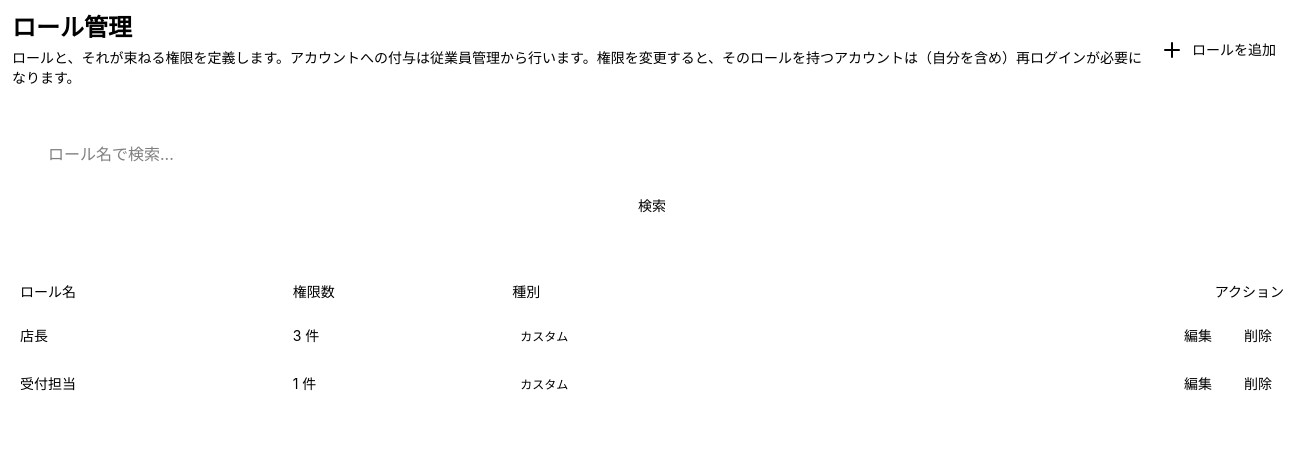
Scenario: ロール一覧ページ › 該当なしのときは検索向けの空文言を出し、クリアで全件へ戻ること
expect the text "店長" is shown: met, box left=12, top=312, right=285, bottom=360
In the field named "ロールを検索": (652, 154) left=36, top=136, right=1268, bottom=172, type "存在しない"
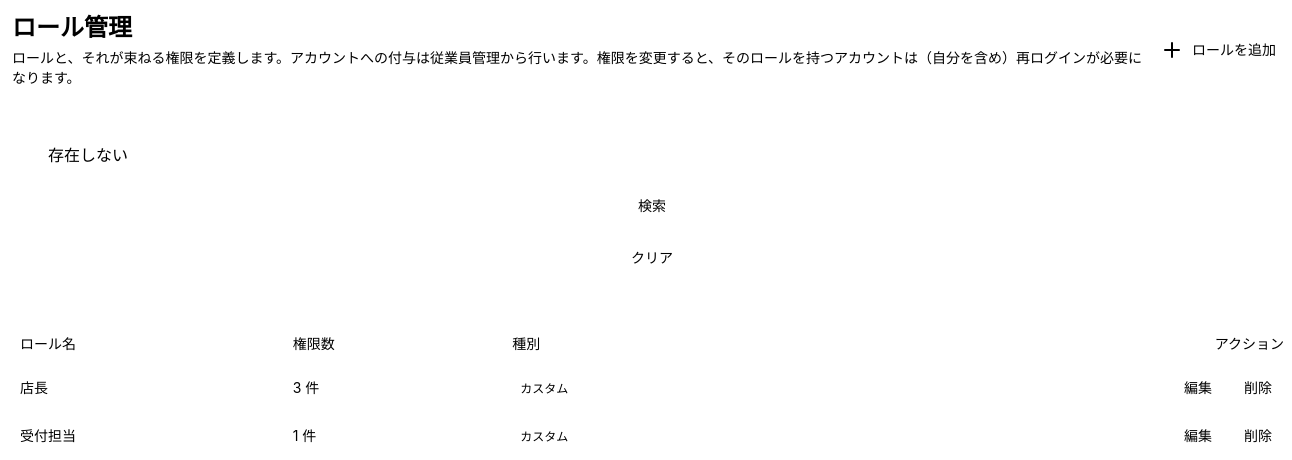
Click the button "検索": (652, 206) left=36, top=188, right=1268, bottom=224
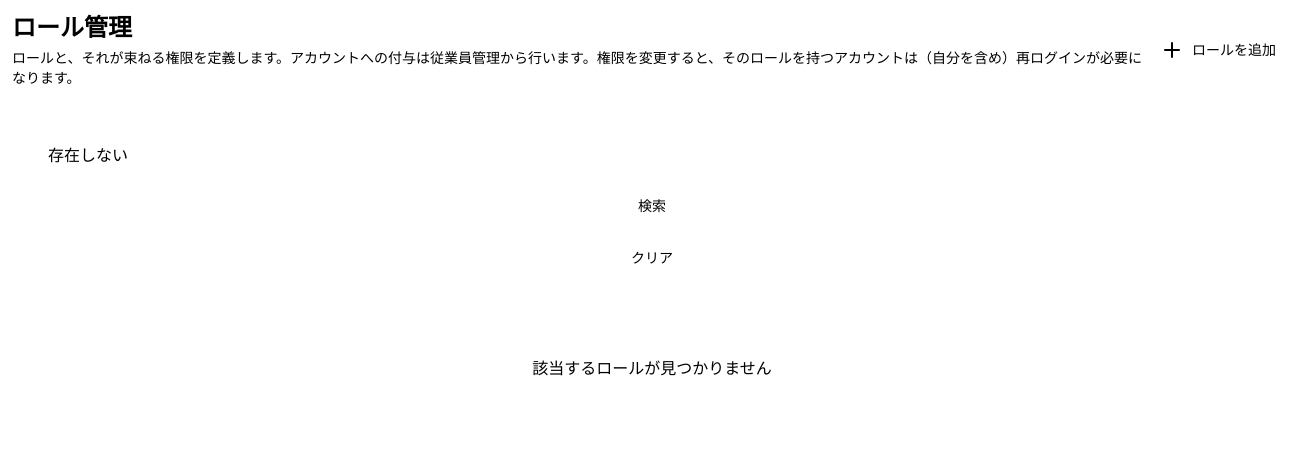
expect the text "該当するロールが見つかりません" is shown: met, box left=532, top=358, right=772, bottom=378
Click the button "クリア": (652, 258) left=36, top=240, right=1268, bottom=276
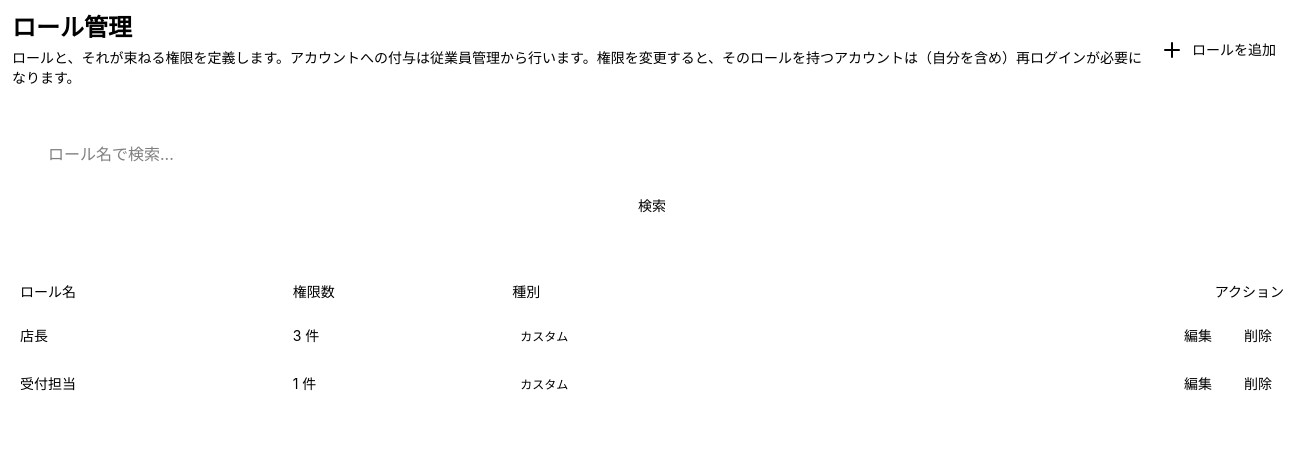
expect the text "店長" is shown: met, box left=12, top=312, right=285, bottom=360
expect the text "受付担当" is shown: met, box left=12, top=360, right=285, bottom=408
